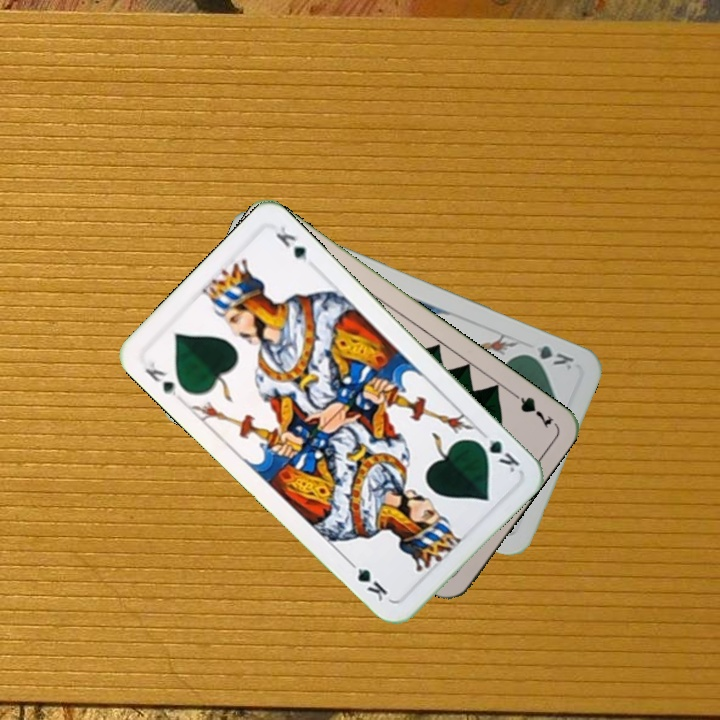G7: (505, 386, 556, 430)
GK: (471, 435, 522, 475), (519, 341, 577, 373), (141, 357, 179, 399)
